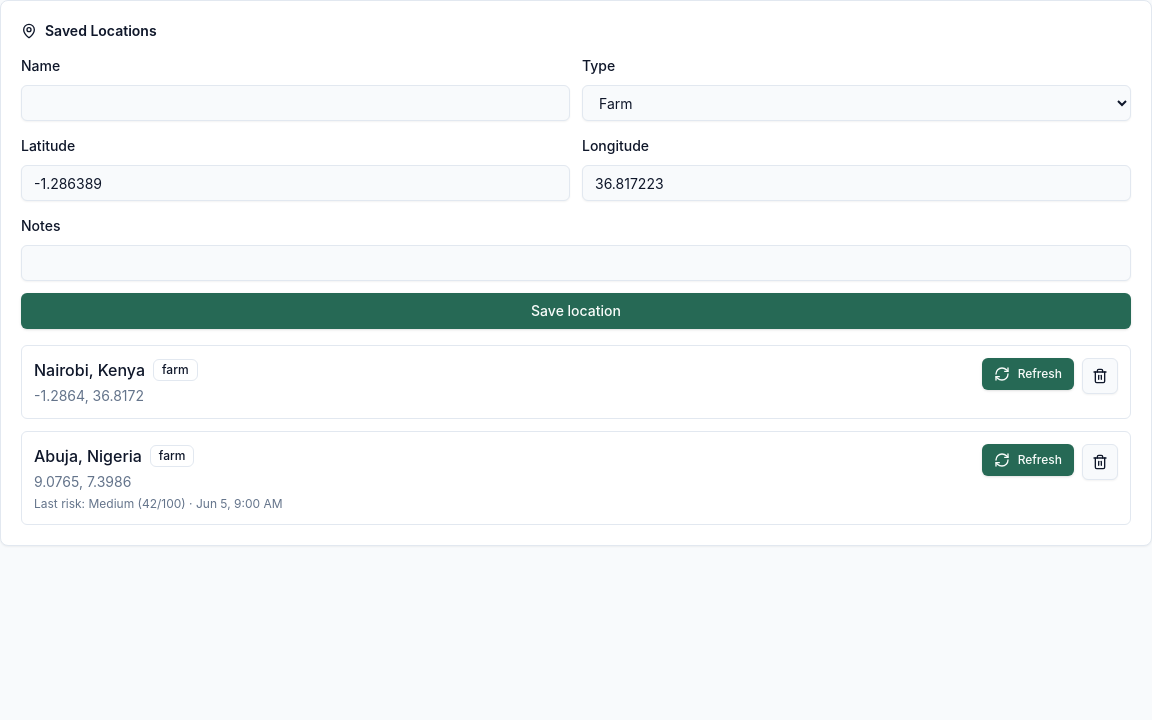
SavedLocationsPanel › shows validation errors and does not submit invalid locations
Type "N" into the field labelled "Name" at [296, 103], box [21,85,570,121]
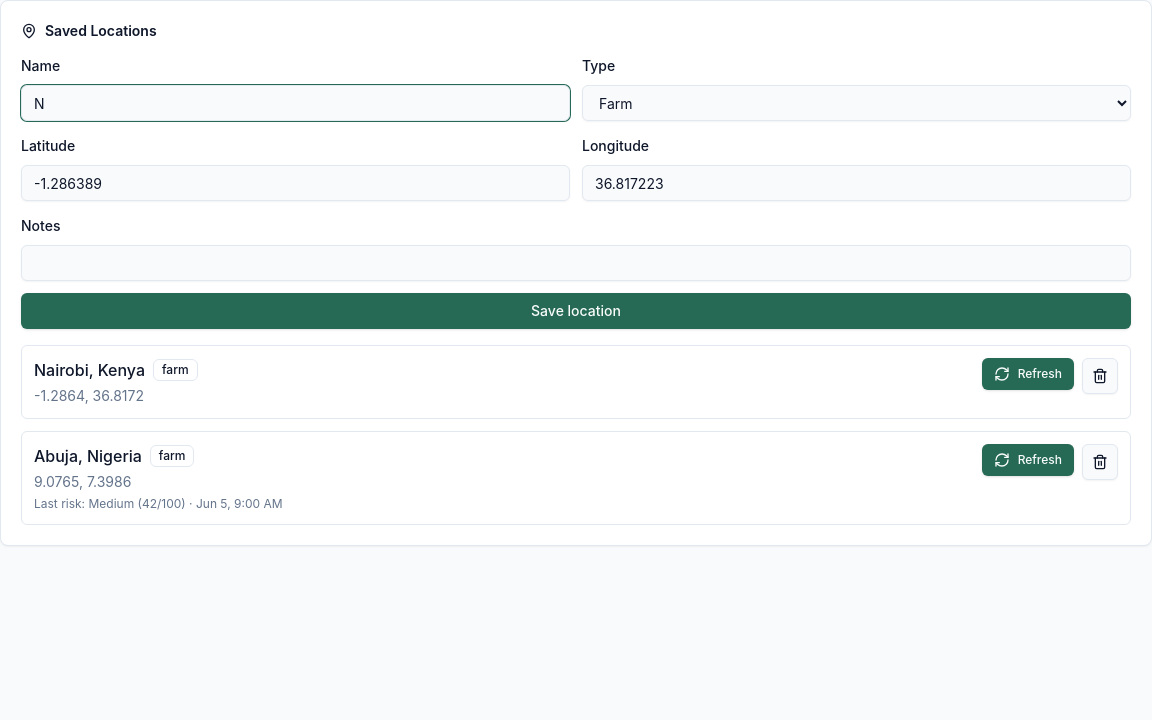
Replace the text in the number field labelled "Latitude" with "-91" at [296, 183], box [21,165,570,201]
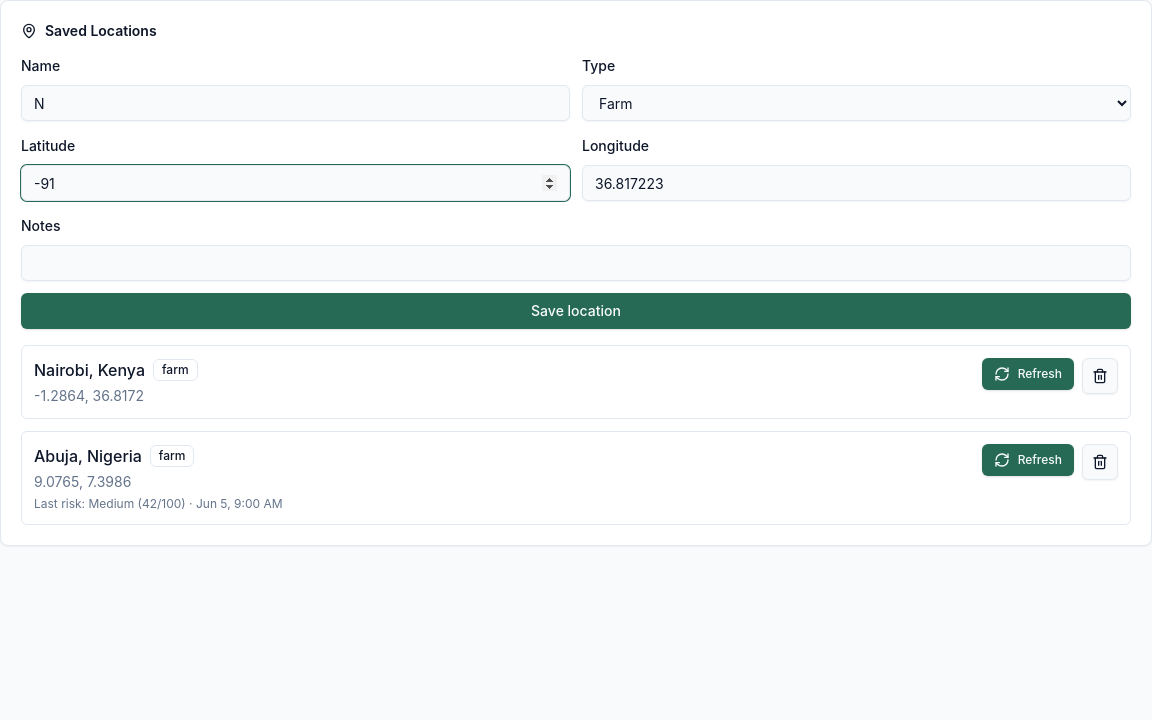
Replace the text in the number field labelled "Longitude" with "181" at [856, 183], box [582,165,1131,201]
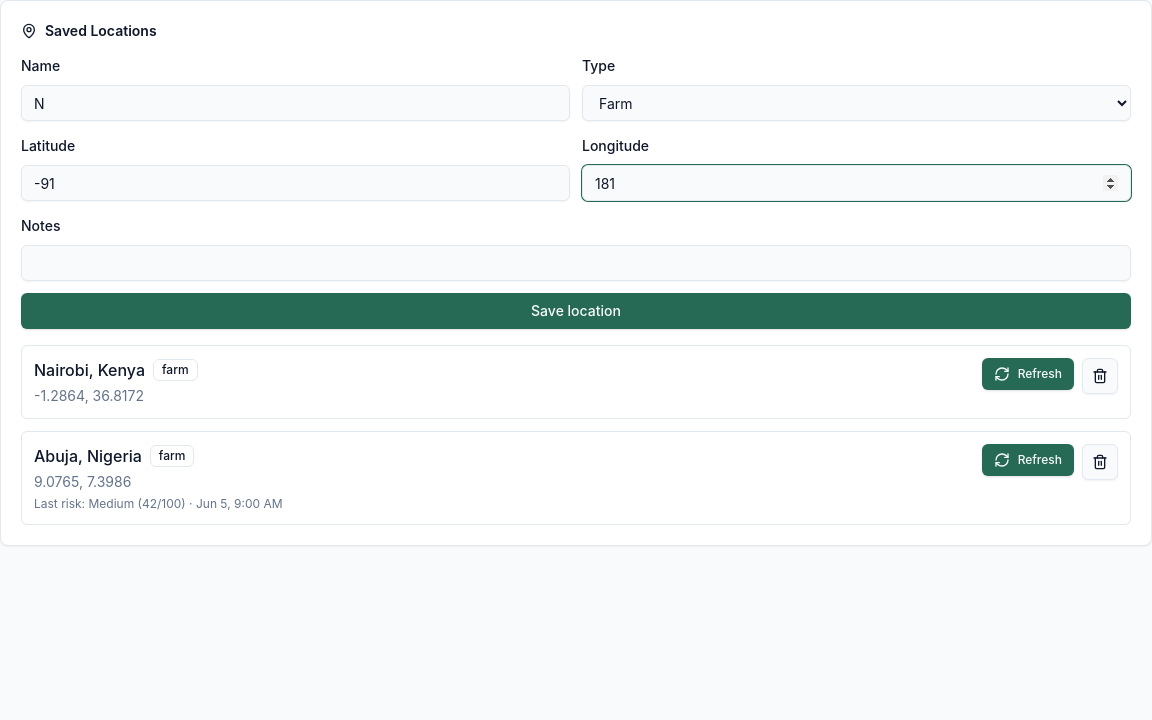
Click the button "Save location" at [576, 311], box [21,293,1131,329]
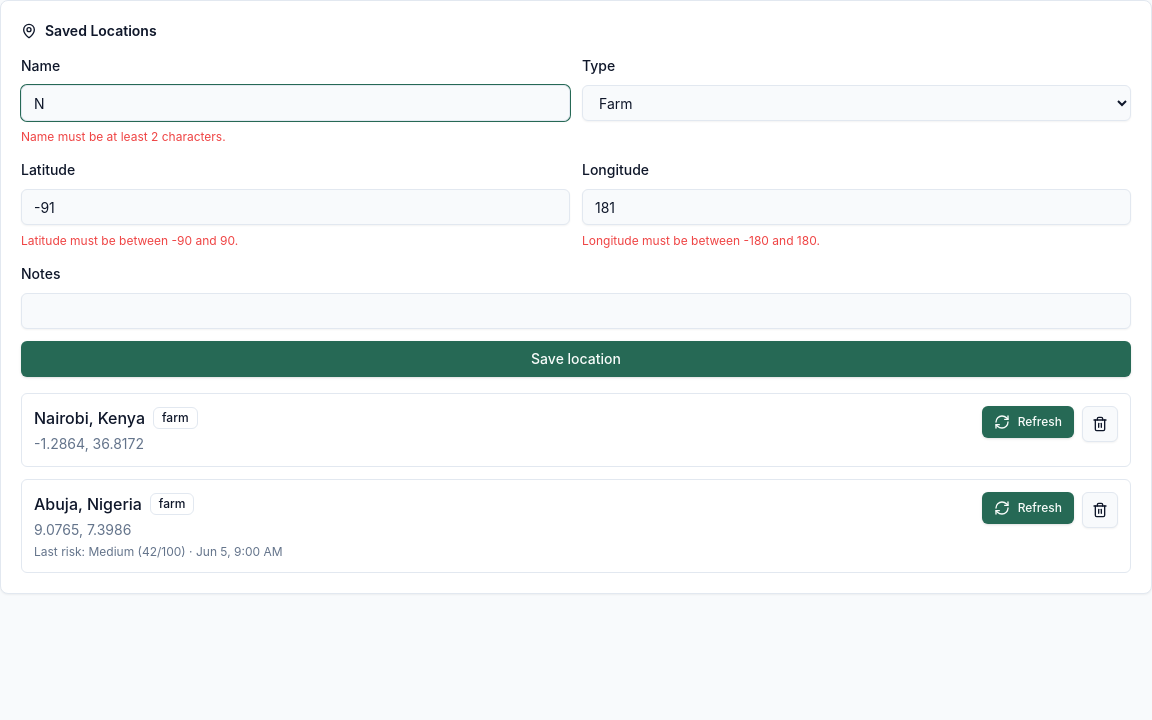
Check: the text "Name must be at least 2 characters." is shown, box [21,129,226,144]
Check: the text "Latitude must be between -90 and 90." is shown, box [21,233,238,248]
Check: the text "Longitude must be between -180 and 180." is shown, box [582,233,820,248]
